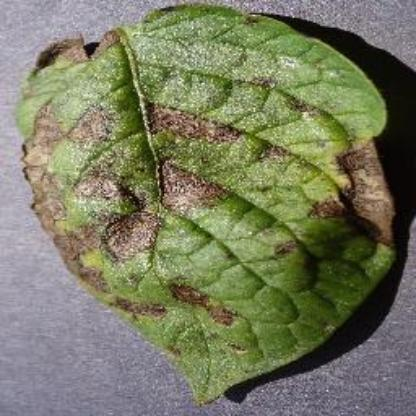Early-Blight: (14, 4, 400, 406)
